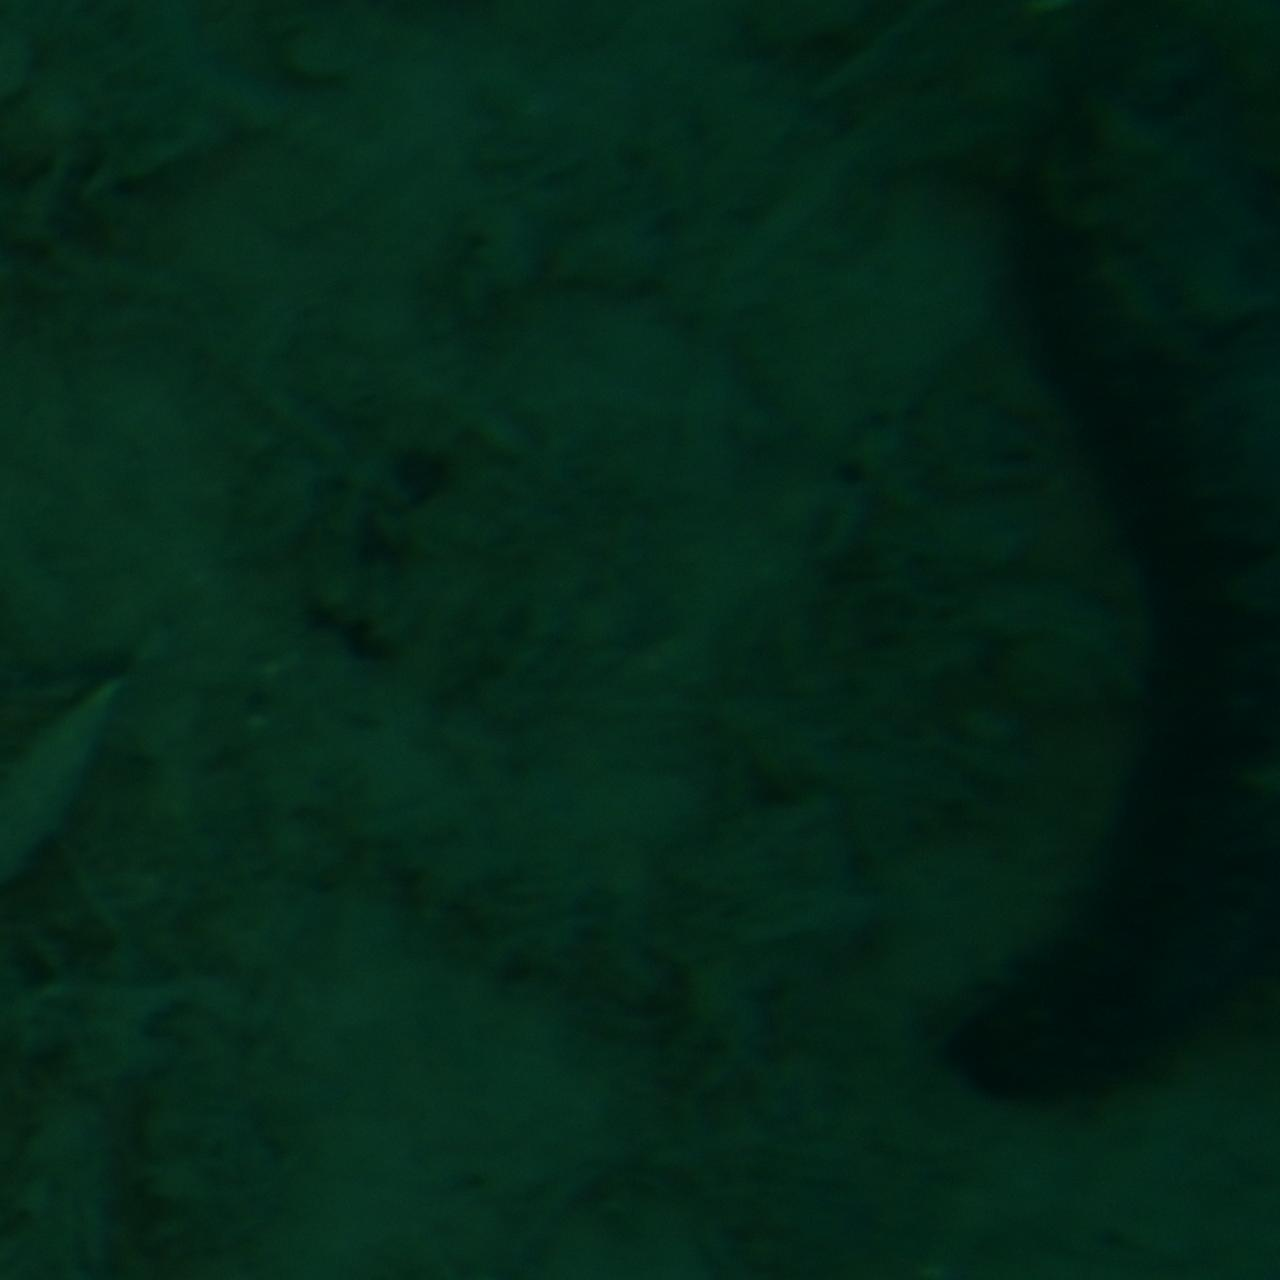Holothuria tubulosa: (920, 156, 1280, 1124)
